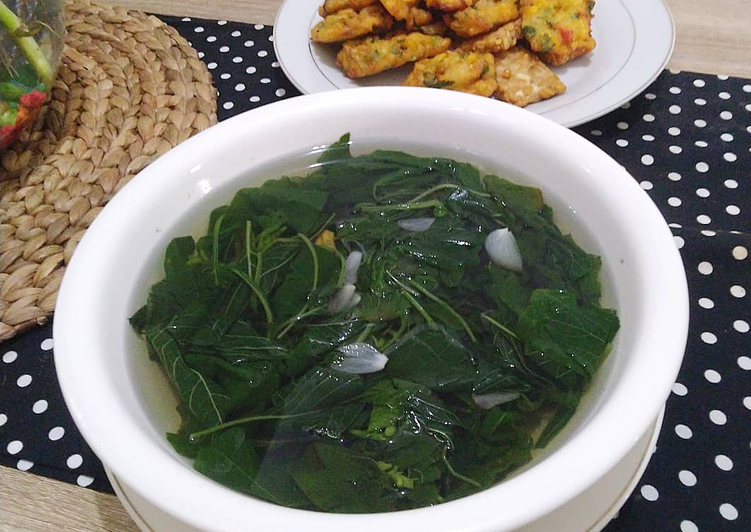Sayur Bayam: (101, 118, 628, 499)
